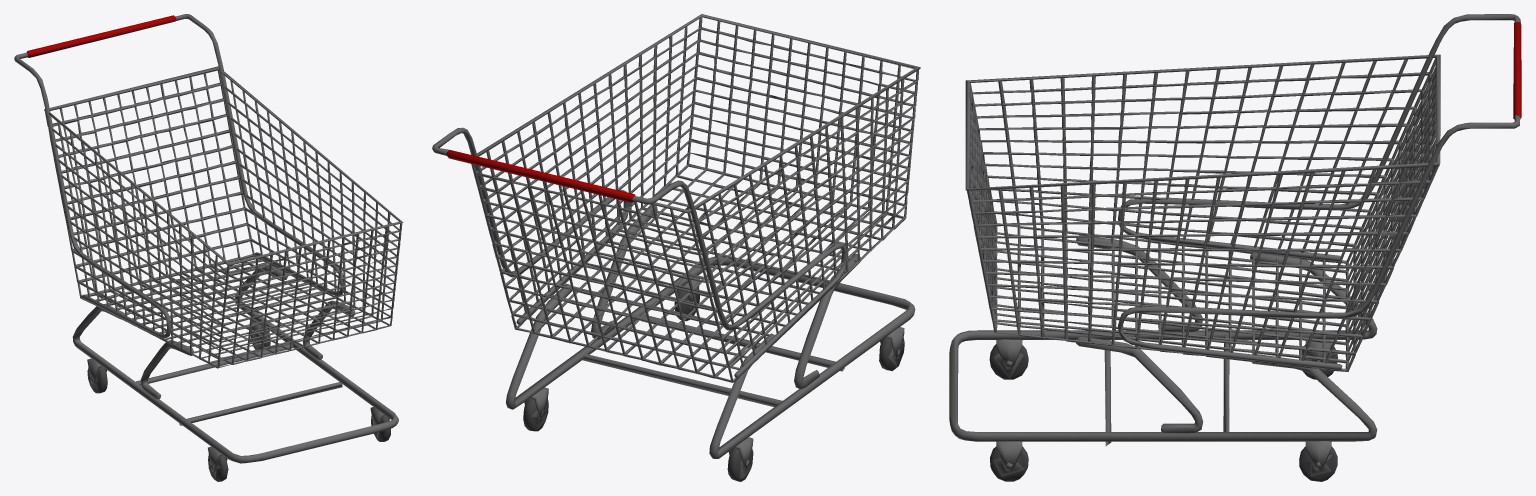
The model's file is Troli.fbx.
The picture shows the model from 3 angles, left to right: view 1: azimuth 30°, elevation 25°; view 2: azimuth 150°, elevation 25°; view 3: azimuth 270°, elevation 25°; orthographic projection. The views are drawn at different scales.
Visible parts, largest first — view 1: troli; view 2: troli; view 3: troli.
Boxes of the visible parts, x1,y1,x2,y2 form: troli: (14, 14, 403, 481); troli: (432, 14, 920, 481); troli: (949, 14, 1521, 481).
Size of what is drawn, in the model's own units: 85.42 by 130 by 186.
